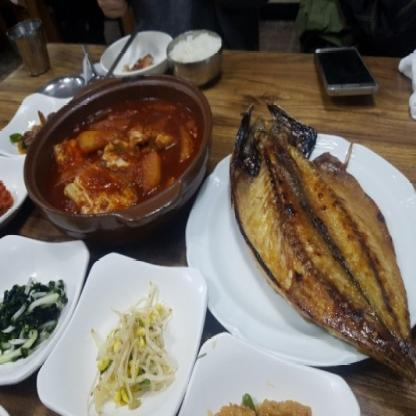Peixe: (228, 97, 416, 383)
